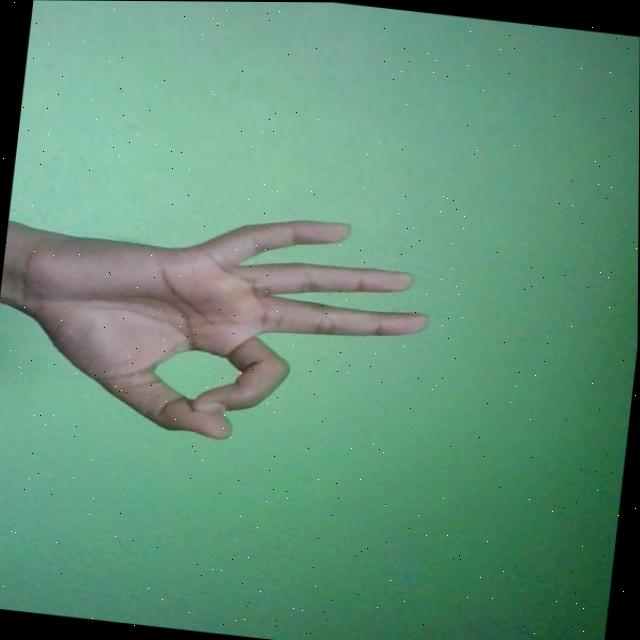Ok: (0, 185, 438, 462)
